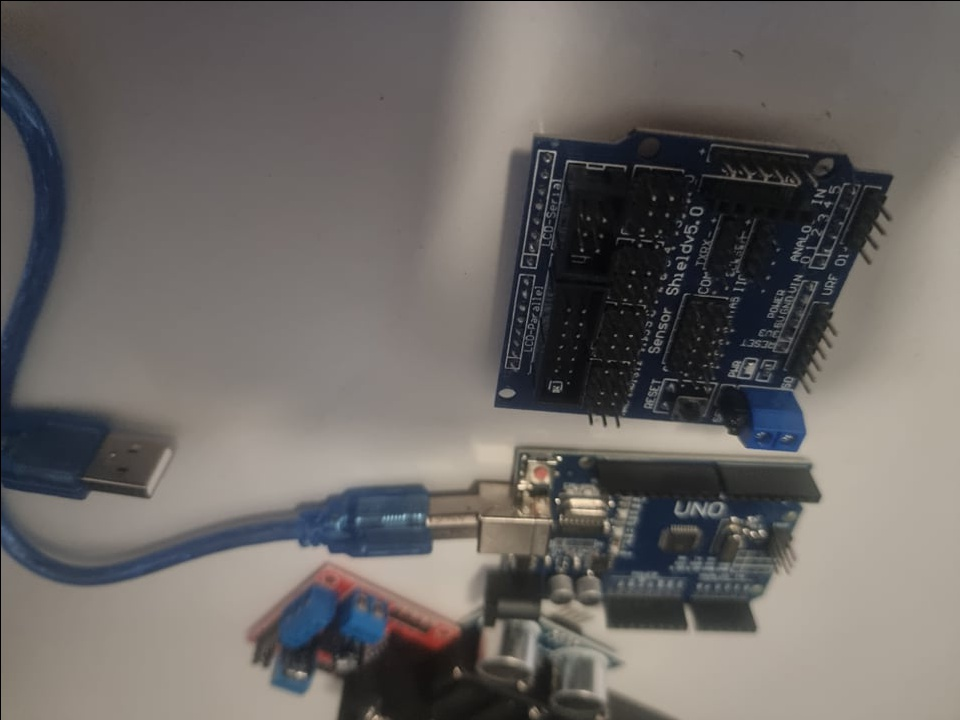5V EXPANSION: (494, 133, 896, 453)
MOTOR: (241, 563, 458, 718)
SENSOR: (469, 611, 633, 714)
UNO R3: (479, 445, 819, 639)
